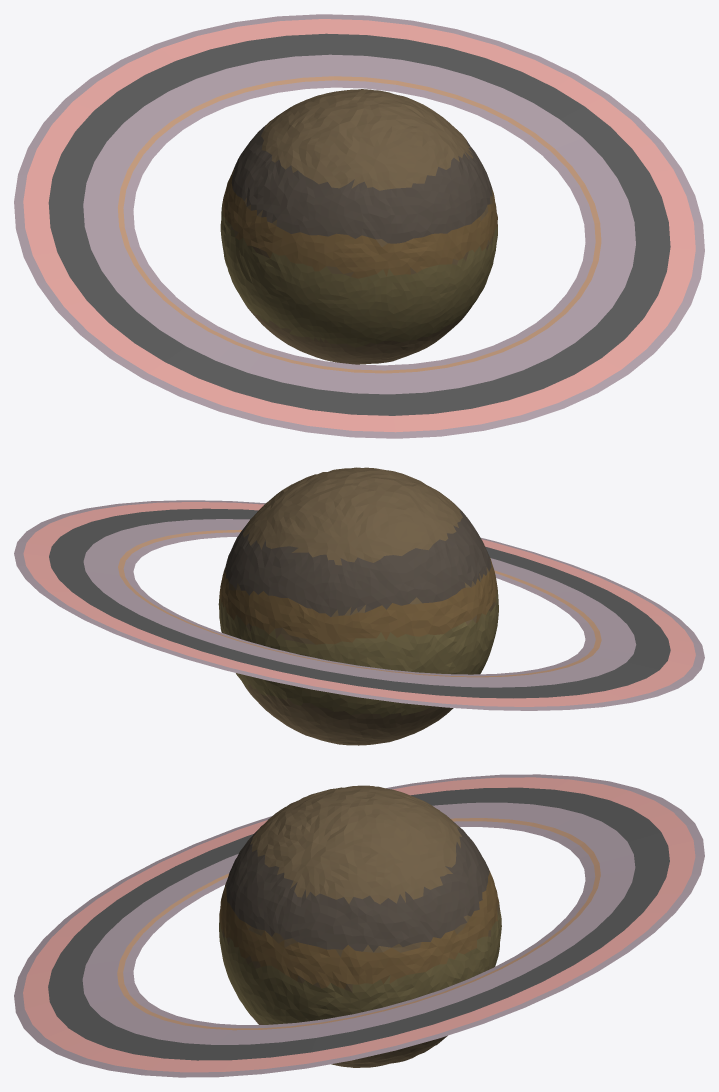
Rendered from Saturne.gltf.
3 renders of one model, top to bottom at view 1: azimuth 30°, elevation 25°; view 2: azimuth 150°, elevation 25°; view 3: azimuth 270°, elevation 25°, orthographic. The views are drawn at different scales.
Visible parts, largest first — view 1: Icosphere; view 2: Icosphere; view 3: Icosphere.
Part boxes in pixels (<box>): Icosphere: <box>14,14,704,438</box>; Icosphere: <box>14,467,704,745</box>; Icosphere: <box>14,774,704,1077</box>.
Bounding box in the file's own units: 49.25 × 19.68 × 48.27.
